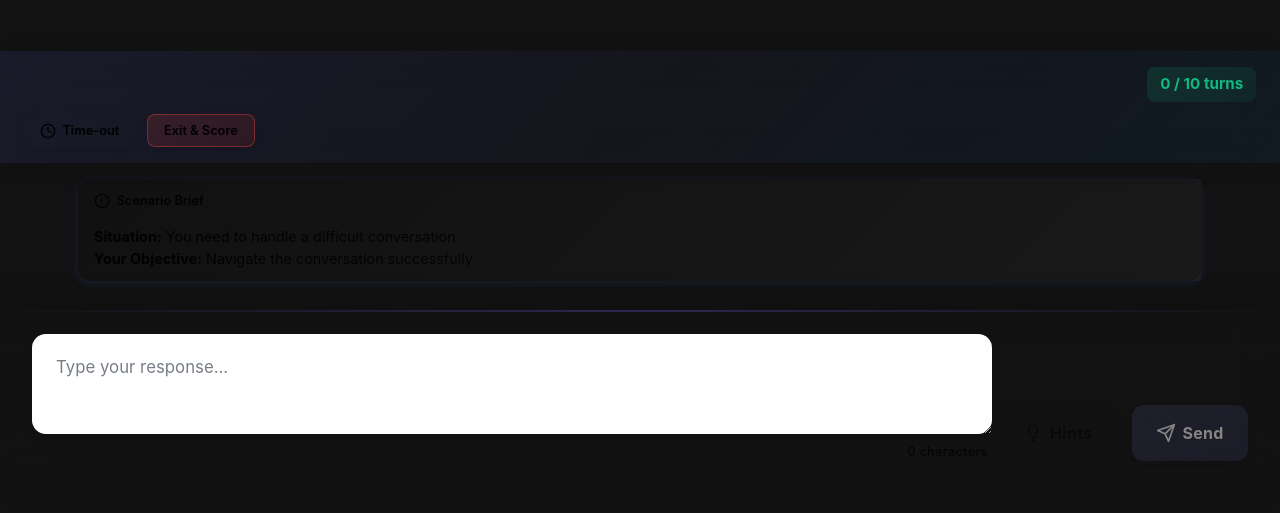
Test: ChatInterface › Timeout Functionality › clears timeout state when message is sent
Note: Trigger timeout
Click the button "Time-out" at point(80, 131), box [24,114,135,148]
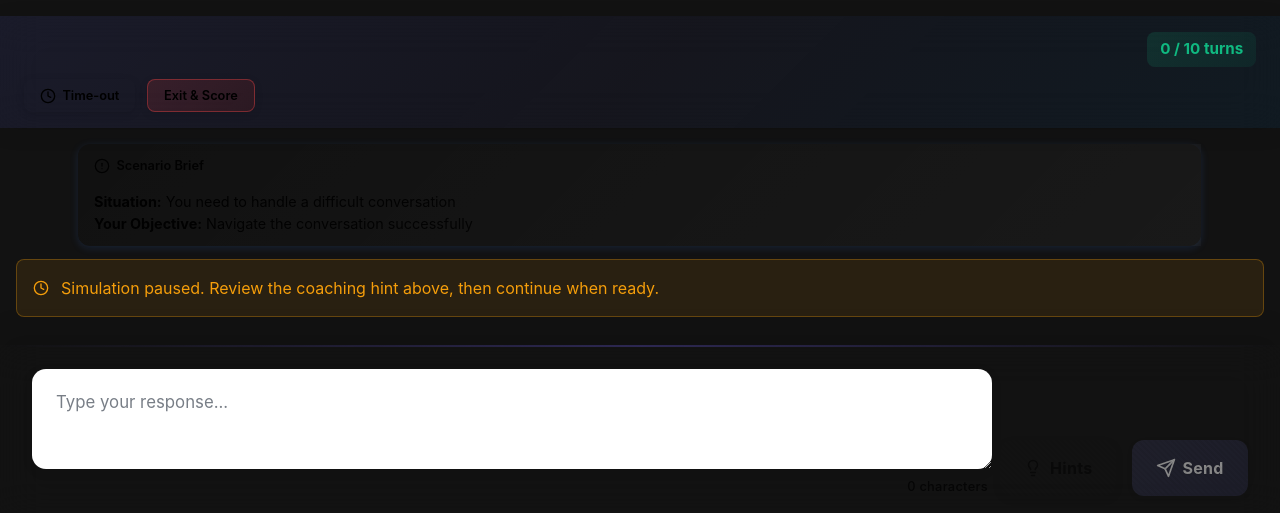
expect the text "Simulation paused" is shown: met, box [61,278,659,298]
Note: Send a message
Type "Test message" into the text box with placeholder "Type your response..." at point(512, 419), box [32,369,992,469]
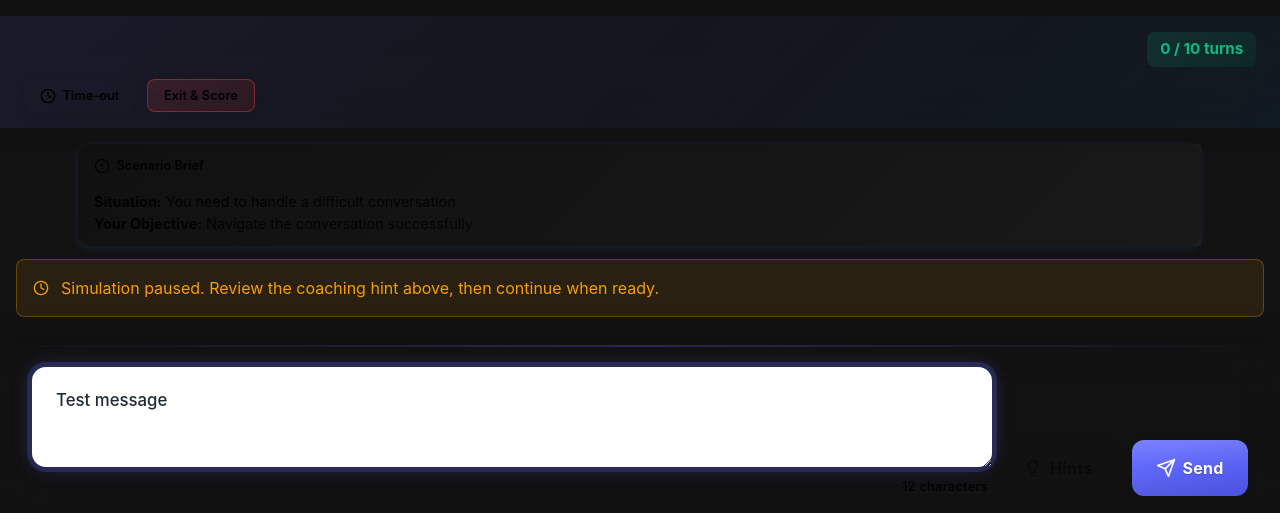
Click the button "Send" at point(1190, 468), box [1132,440,1248,496]
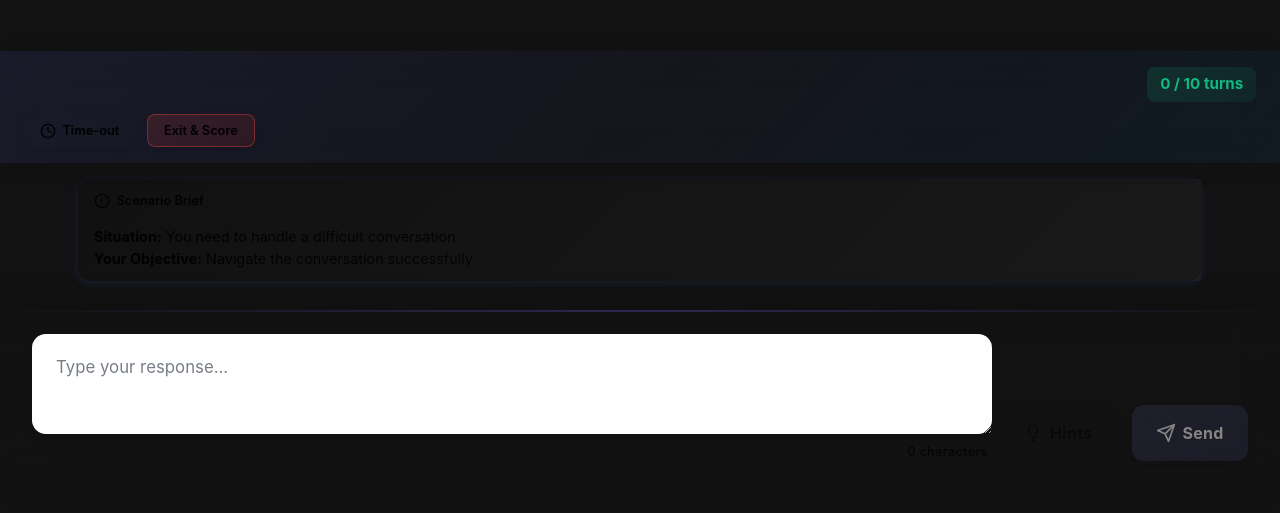
expect the text "Simulation paused" is gone: met
